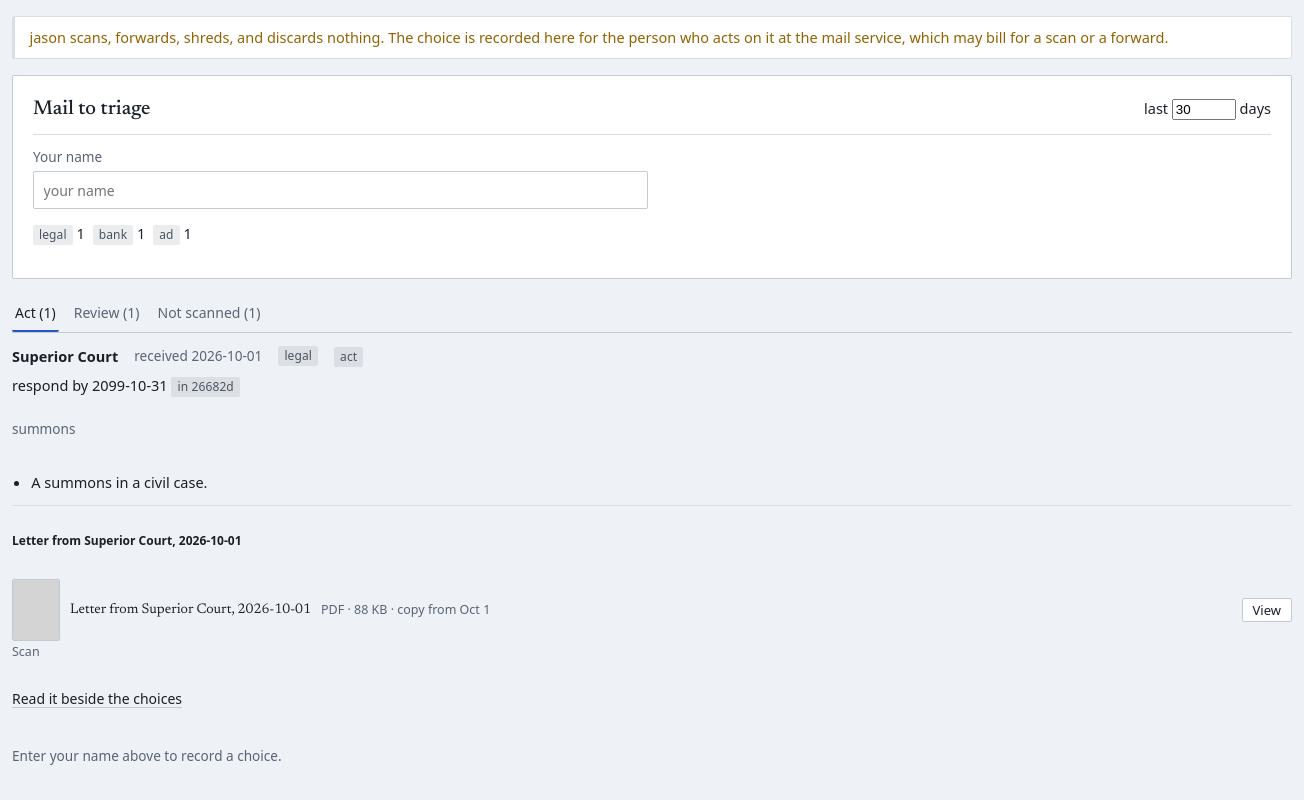
it: MailTriageView: each letter's document (Doc) › not allowed: the server's reason, in words
What coordinates should you click on to do the following:
click the button "Read it beside the choices"
I would click on:
 (97, 699)
Its box is [12,690,182,708].
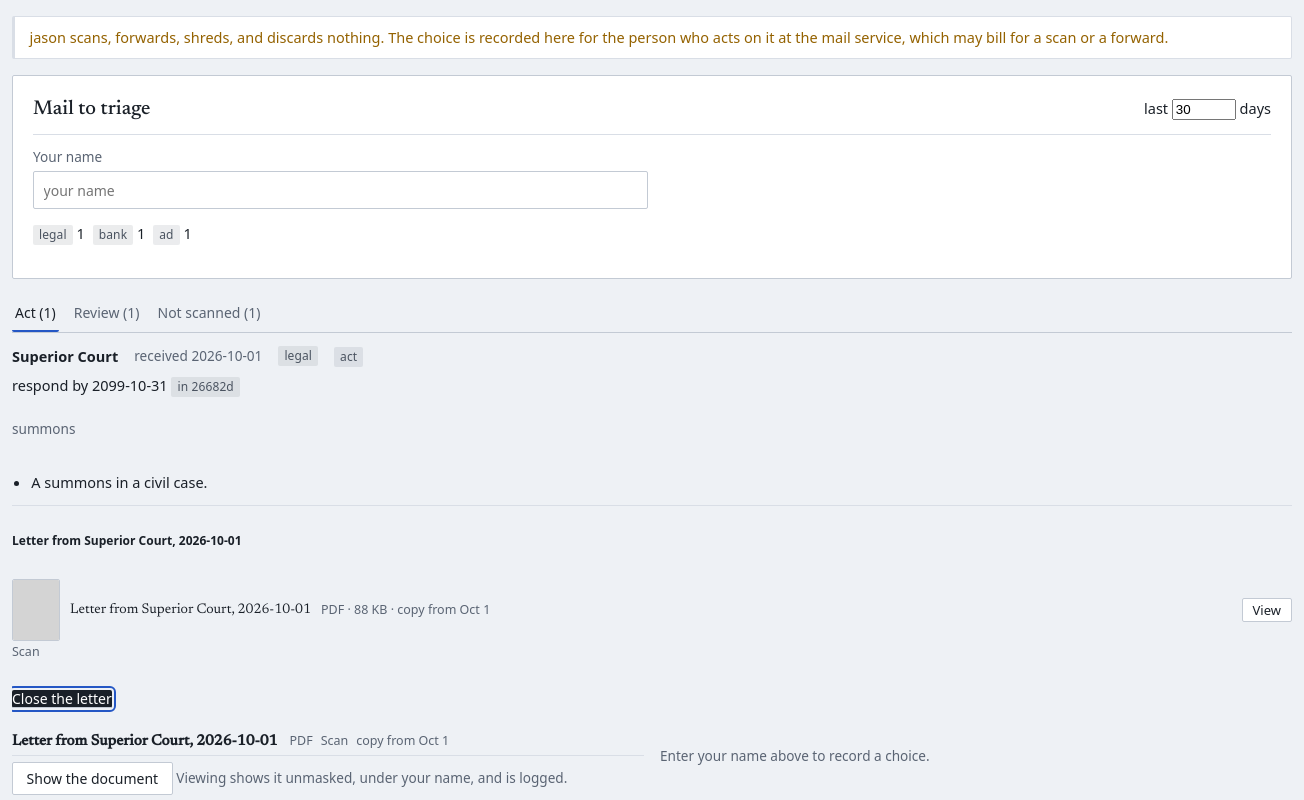
What coordinates should you click on to do the following:
click the button "Show the document"
I would click on:
 (92, 779)
Its box is [12,762,173,795].
(page scrolled)
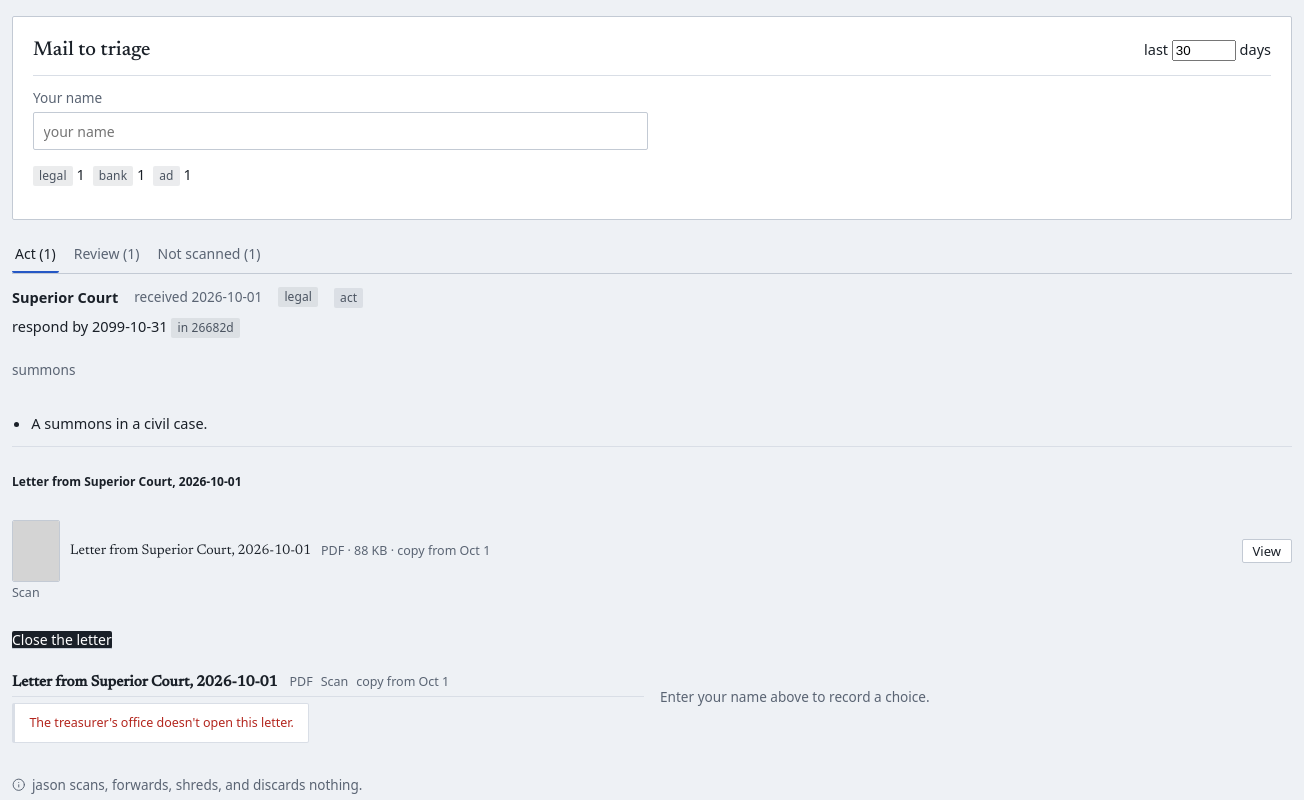
Check: the text "The treasurer's office doesn't open this letter." is shown, box [12,703,309,743]
